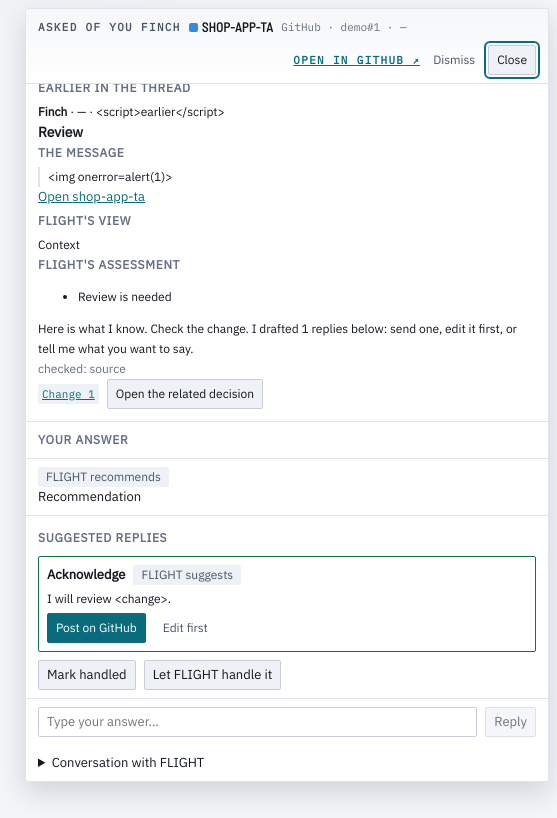
Test: edits without sending and displays stale-source refusal
(page scrolled)
Click the button "Edit first": (185, 628) [154,613,217,643]
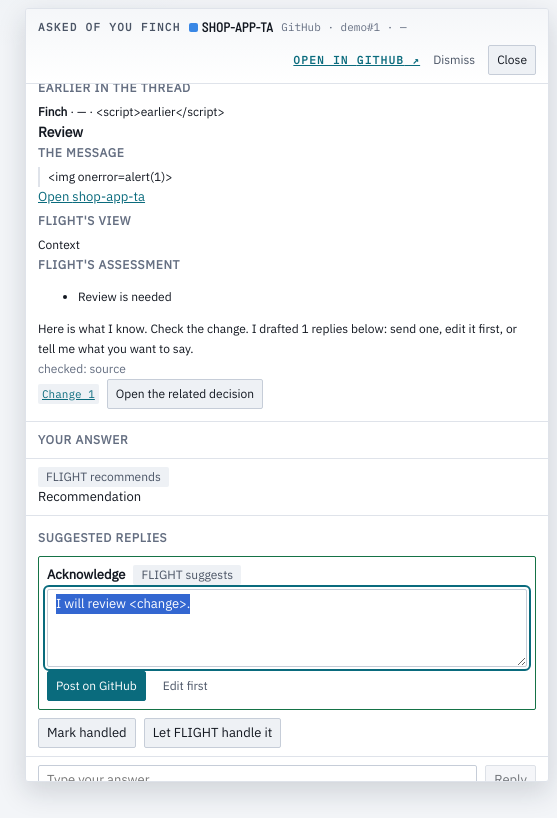
Replace the text in the text box named "Suggested reply" with "Edited reply": (287, 628) [47,589,527,667]
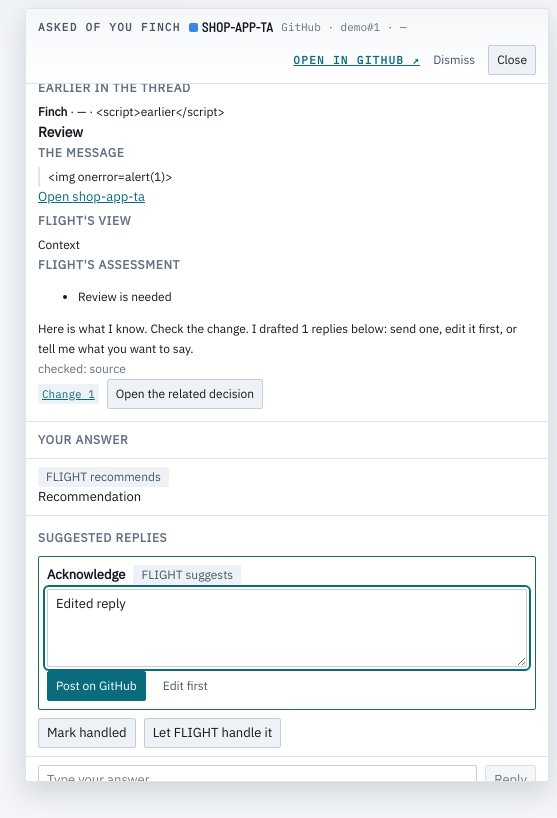
Click the button "Post on GitHub": (96, 686) [47,671,146,701]
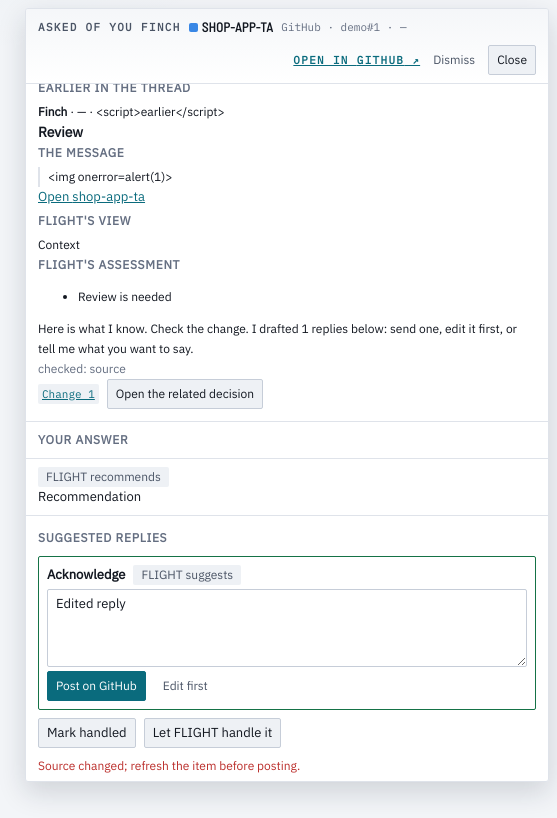
Expected: the text "Source changed; refresh the item before posting." is shown, [38,758,300,773]
